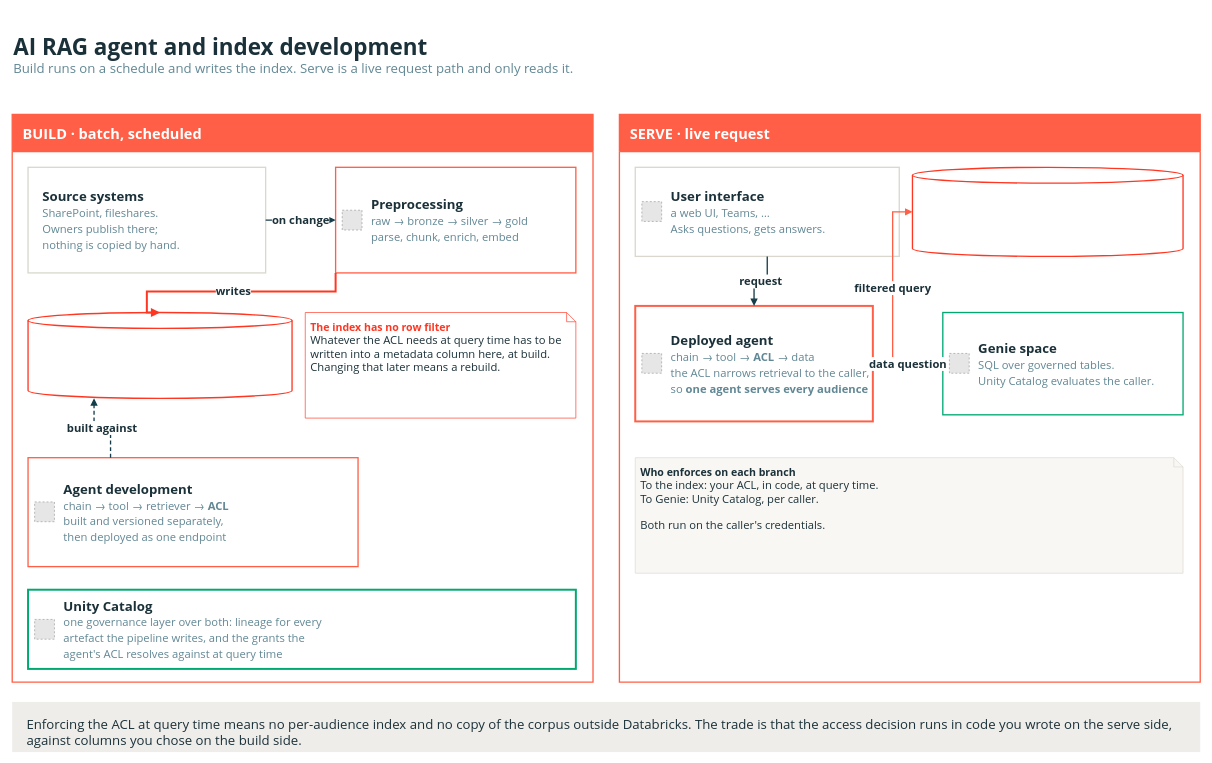
The diagram is 1212 pixels wide and 763 high, and some of its shapes have lost their labels. Grey dashed boxes stand in for pictures. The shapes that lost their labels are listed below. From the top down, each one's centre as x and y in pixels, then its label:
pixel 1047 211: the same AI Search index read at query time, never written
pixel 159 355: AI Search index written only here
